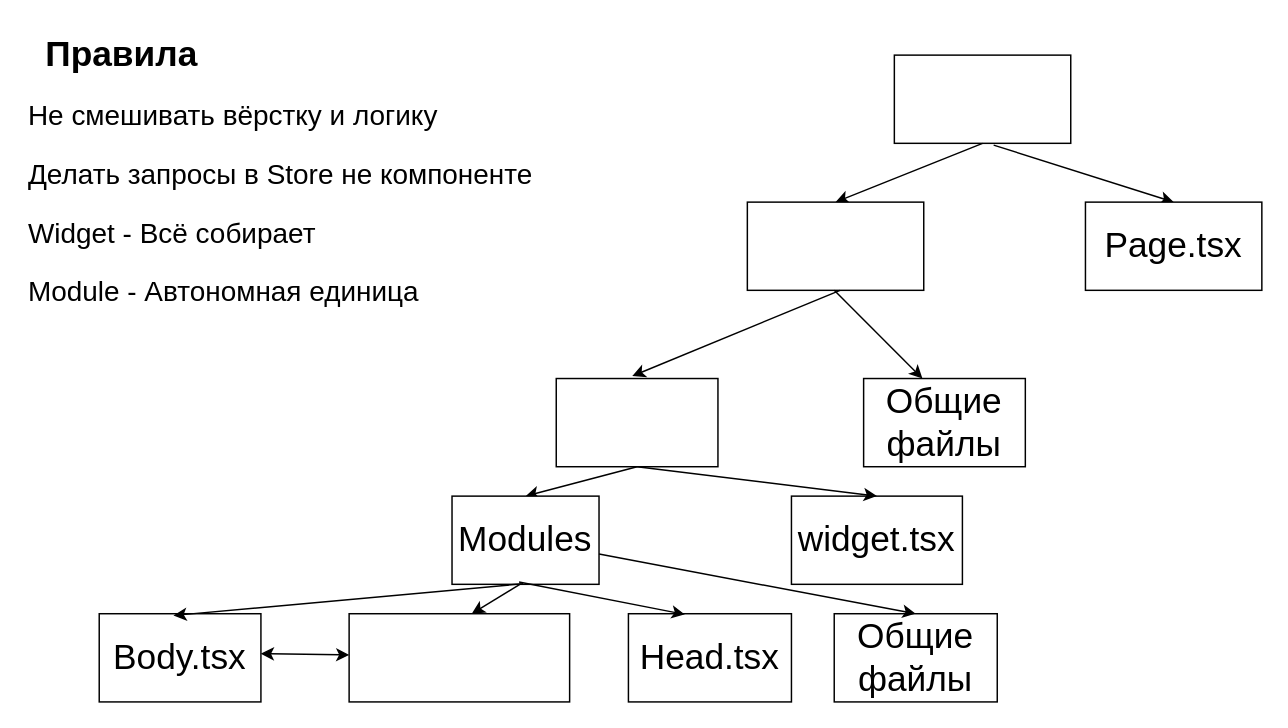
Image size: 1288x728. Some labels were removed from this diagram. Here are the shapes that lost their labels. From the top down, the box of each, then its label:
(893, 54, 1071, 143): Page
(746, 201, 924, 290): Widgets
(555, 377, 718, 467): Widget
(348, 612, 570, 702): Components
